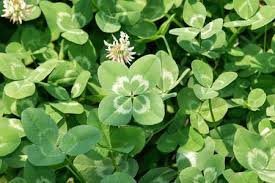4-clover: (99, 56, 164, 128)
